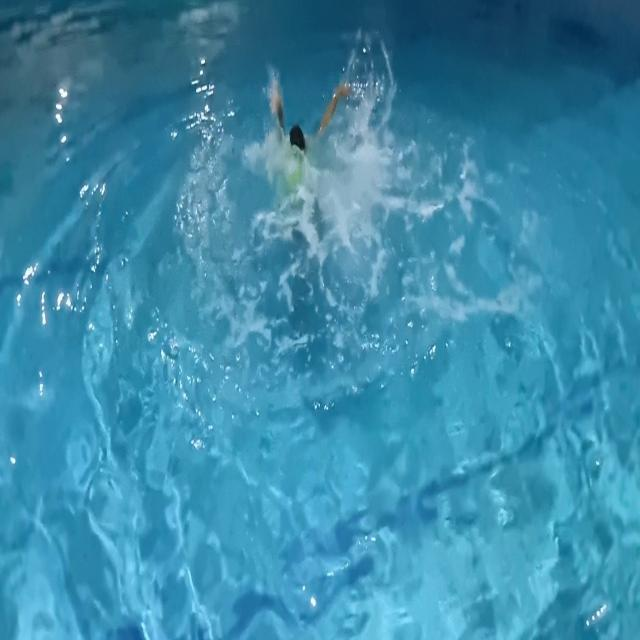Drowning: (241, 45, 403, 255)
